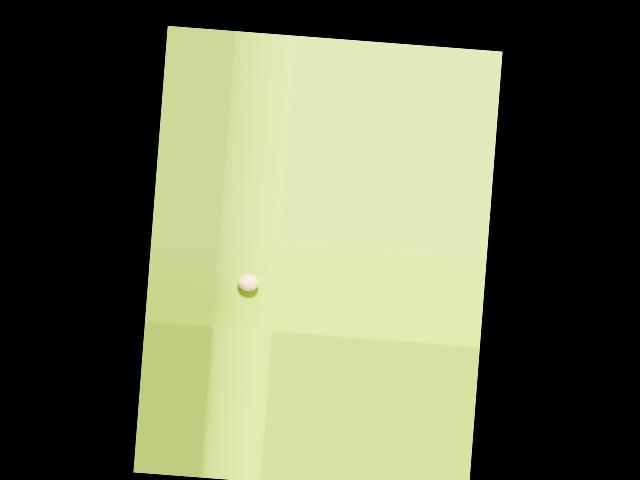egg: (235, 274, 259, 292)
